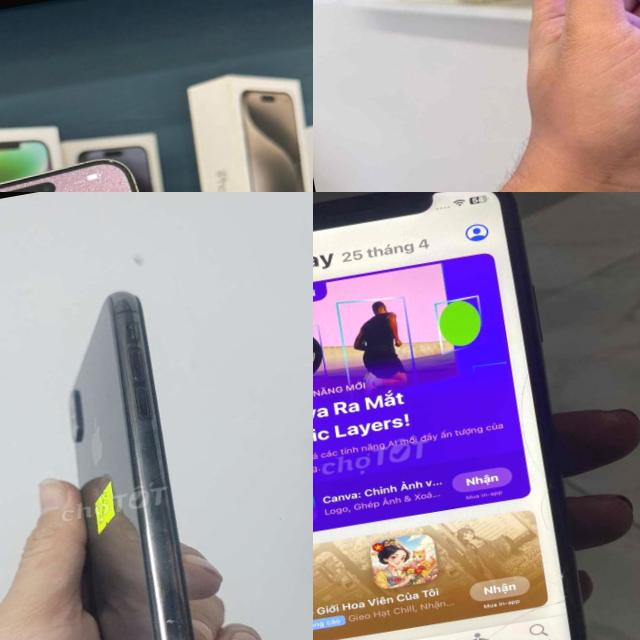gen_12_13: (468, 0, 640, 114)
gen_15: (0, 137, 244, 192)
gen_x_xs: (313, 192, 603, 640), (69, 292, 194, 640)
